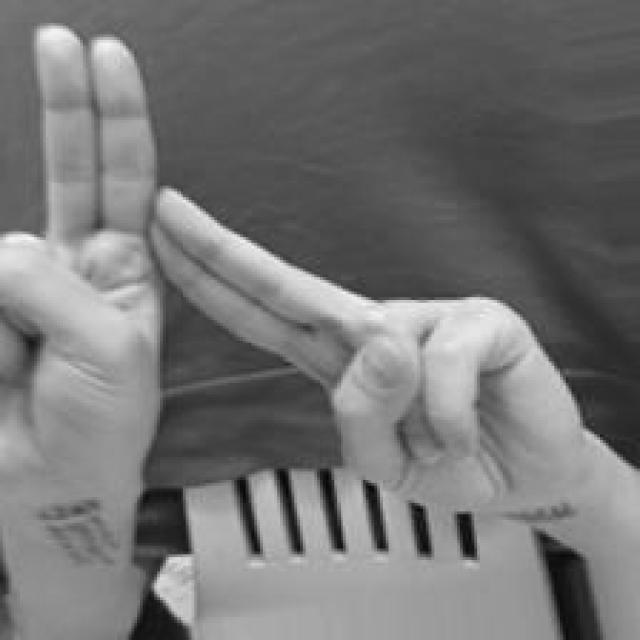K: (0, 25, 591, 521)
